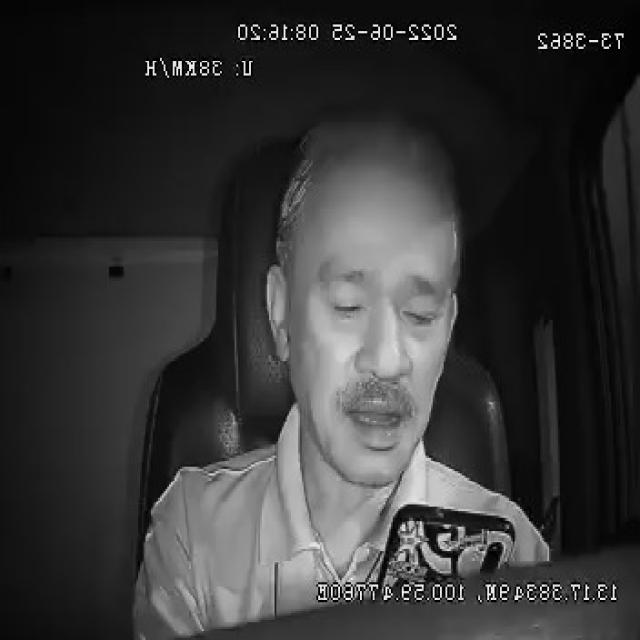phone: (375, 502, 515, 581)
